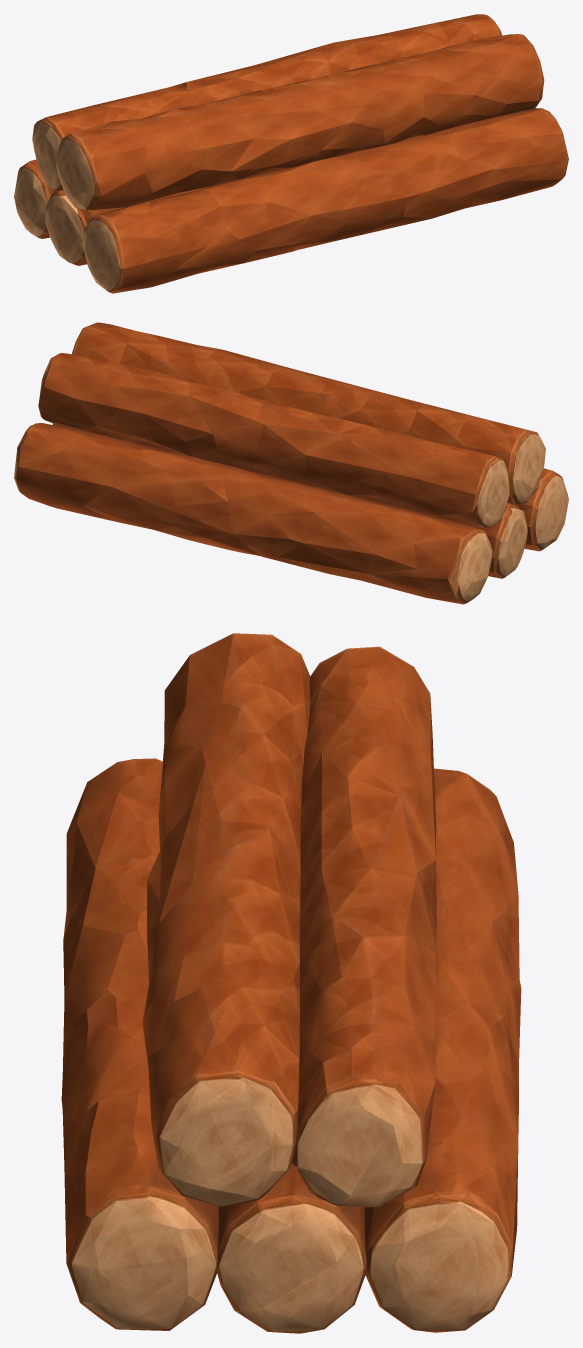
The model's file is cedar-beams.glb.
3 views of the same model, one above another, from view 1: azimuth 30°, elevation 25°; view 2: azimuth 150°, elevation 25°; view 3: azimuth 270°, elevation 25° (orthographic). The views are drawn at different scales.
Bounding box in the file's own units: 1.9 × 0.5575 × 0.8268.
Materials: 1 (1 with a texture image).
